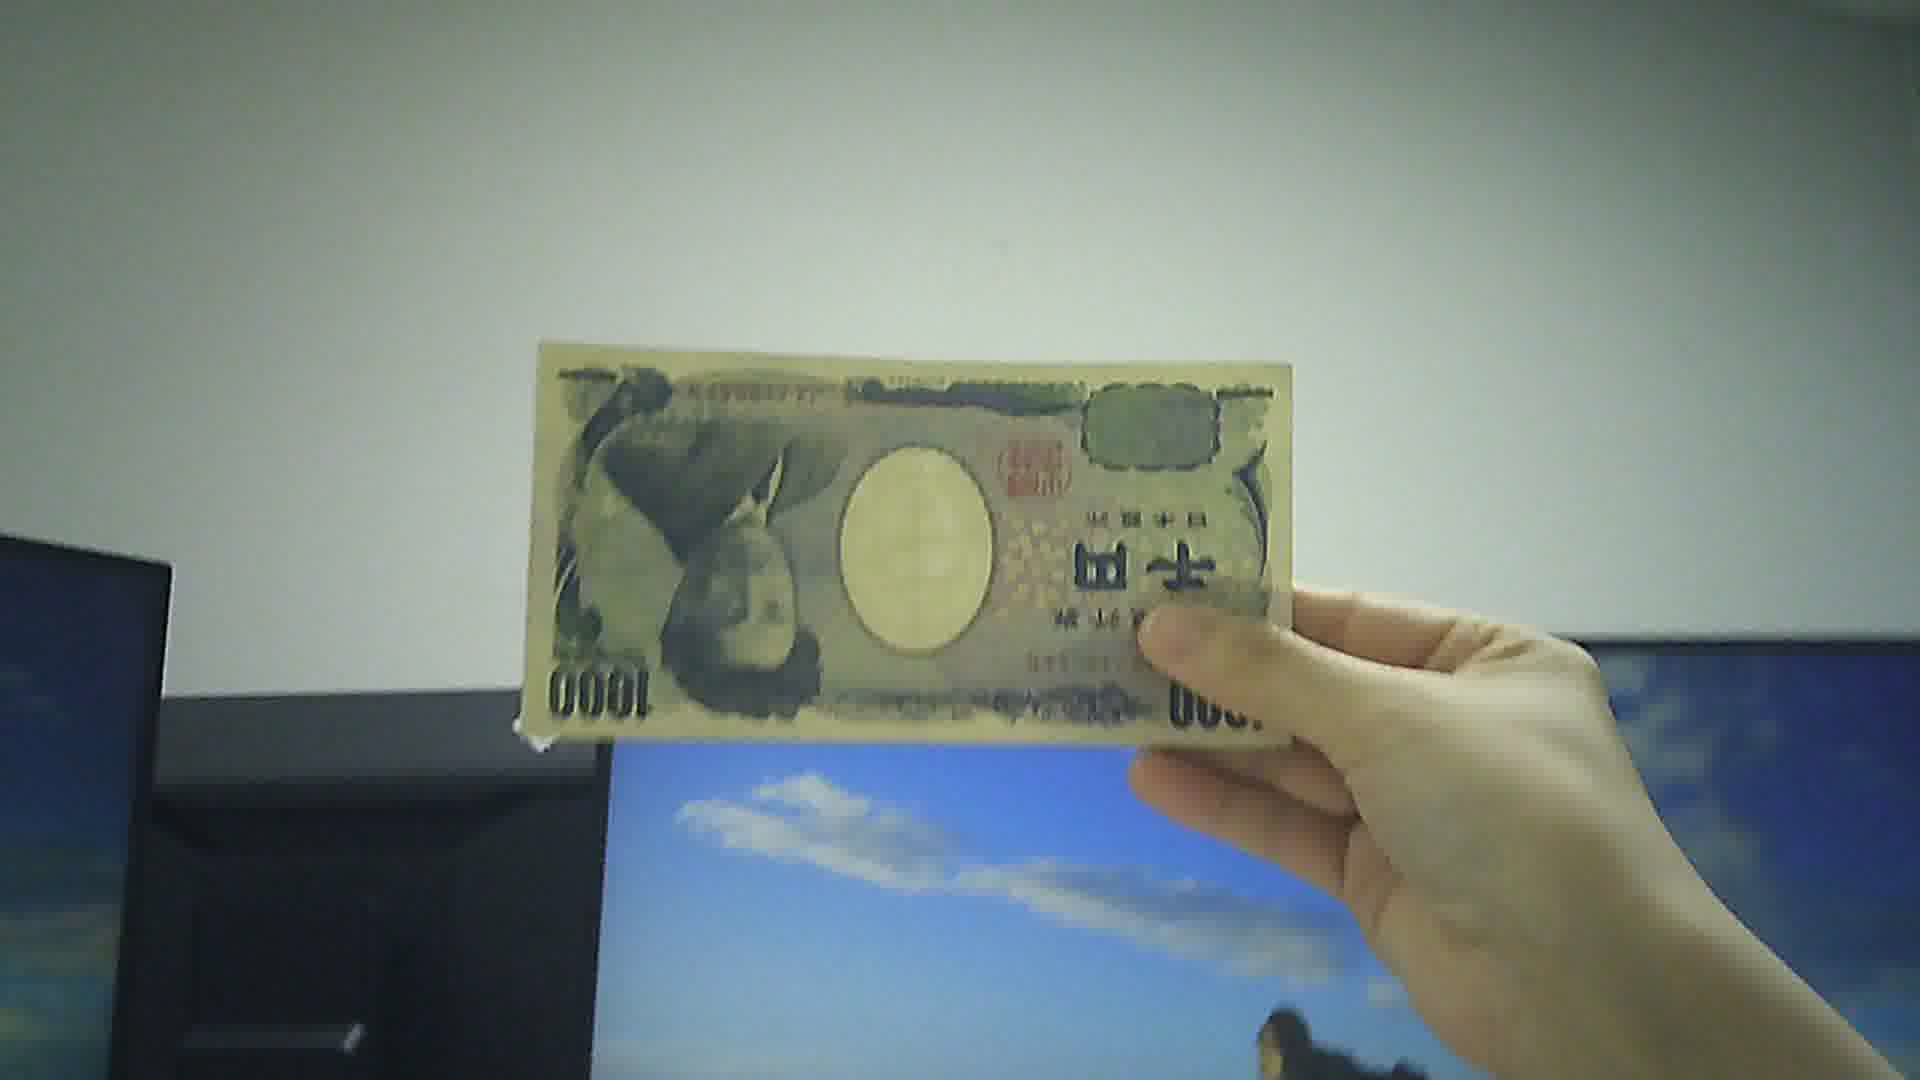1,000 Yen: (506, 318, 1288, 760)
